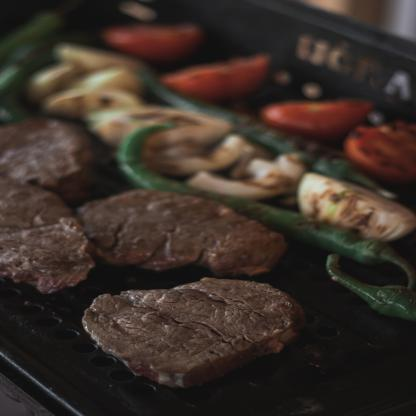Carne: (78, 280, 307, 389), (74, 186, 285, 280), (0, 178, 89, 296), (0, 112, 96, 190)
